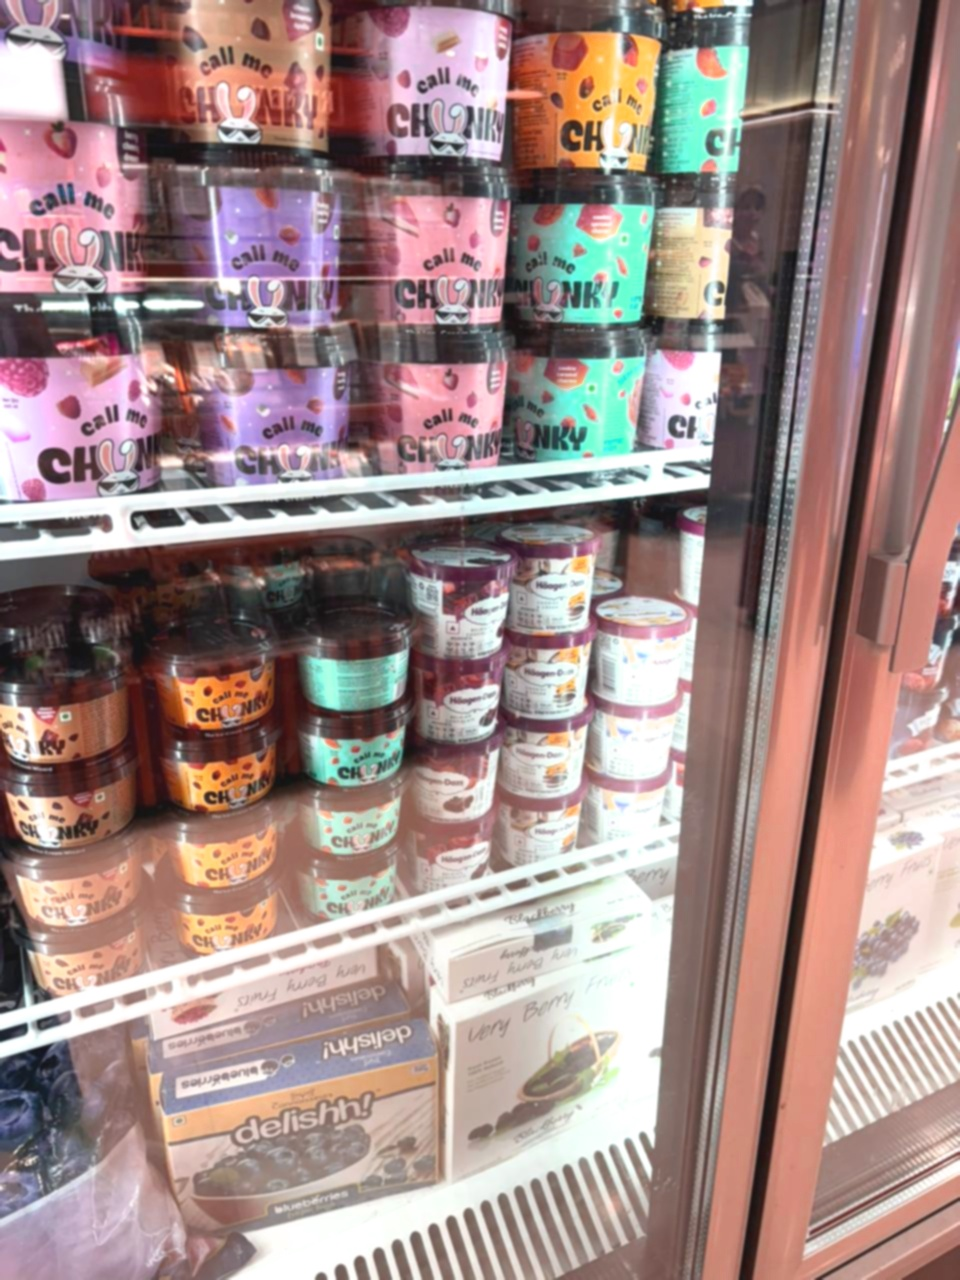Haagen-Dazs IceCream Tub: (403, 542, 514, 658), (498, 522, 600, 640), (405, 639, 515, 746), (581, 595, 695, 697), (496, 623, 598, 730), (495, 703, 596, 804), (405, 732, 503, 830), (493, 774, 586, 874), (398, 804, 499, 894), (584, 692, 678, 779), (582, 768, 664, 859)
